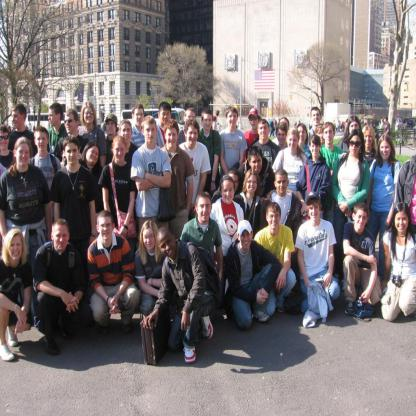face: (159, 235, 175, 259), (55, 225, 69, 251), (9, 236, 23, 261), (198, 198, 211, 221), (395, 212, 409, 233), (18, 143, 30, 167), (222, 182, 235, 204), (100, 218, 112, 241), (66, 144, 79, 165), (144, 229, 156, 250), (36, 133, 48, 152), (65, 115, 77, 134), (145, 124, 157, 143), (350, 136, 362, 155), (167, 128, 178, 148), (87, 147, 99, 165), (356, 212, 368, 230), (251, 156, 263, 174), (241, 231, 253, 249), (115, 142, 126, 161), (121, 124, 132, 143), (188, 127, 199, 146), (380, 141, 391, 160), (277, 175, 288, 194), (269, 212, 281, 229), (309, 203, 320, 221), (247, 176, 258, 194), (325, 126, 335, 145), (288, 134, 299, 151), (13, 111, 23, 129), (364, 130, 374, 148), (85, 107, 95, 124), (297, 127, 307, 144), (49, 109, 58, 127), (135, 109, 144, 127), (187, 112, 196, 130), (161, 110, 171, 126), (228, 113, 238, 128), (350, 123, 360, 138), (230, 174, 238, 192), (204, 115, 213, 130), (260, 124, 269, 139), (278, 130, 287, 145), (312, 111, 321, 126), (107, 121, 116, 135), (312, 143, 321, 157), (250, 117, 259, 130), (281, 120, 289, 134), (318, 131, 326, 144), (4, 134, 9, 150), (216, 118, 218, 122), (385, 119, 386, 123)
